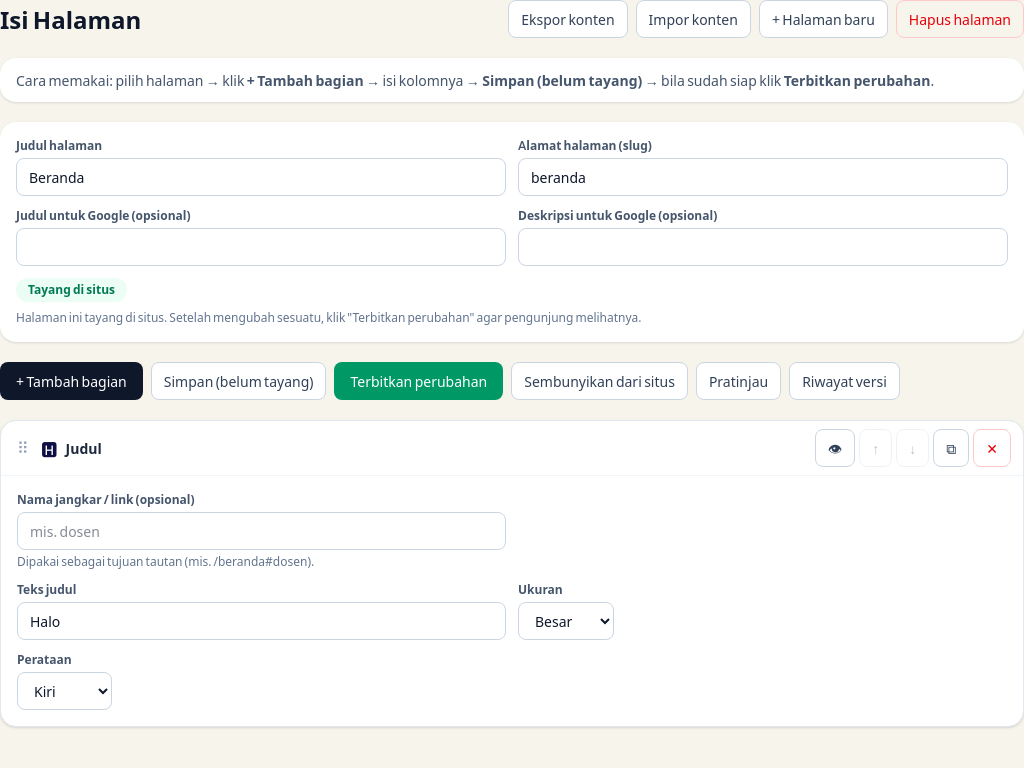
PageBuilder — bundel konten › ADMIN dapat mengekspor konten sebagai berkas JSON
The image size is (1024, 768).
Step 1. Click the button "Ekspor konten" → (568, 19), box [508, 0, 628, 38]
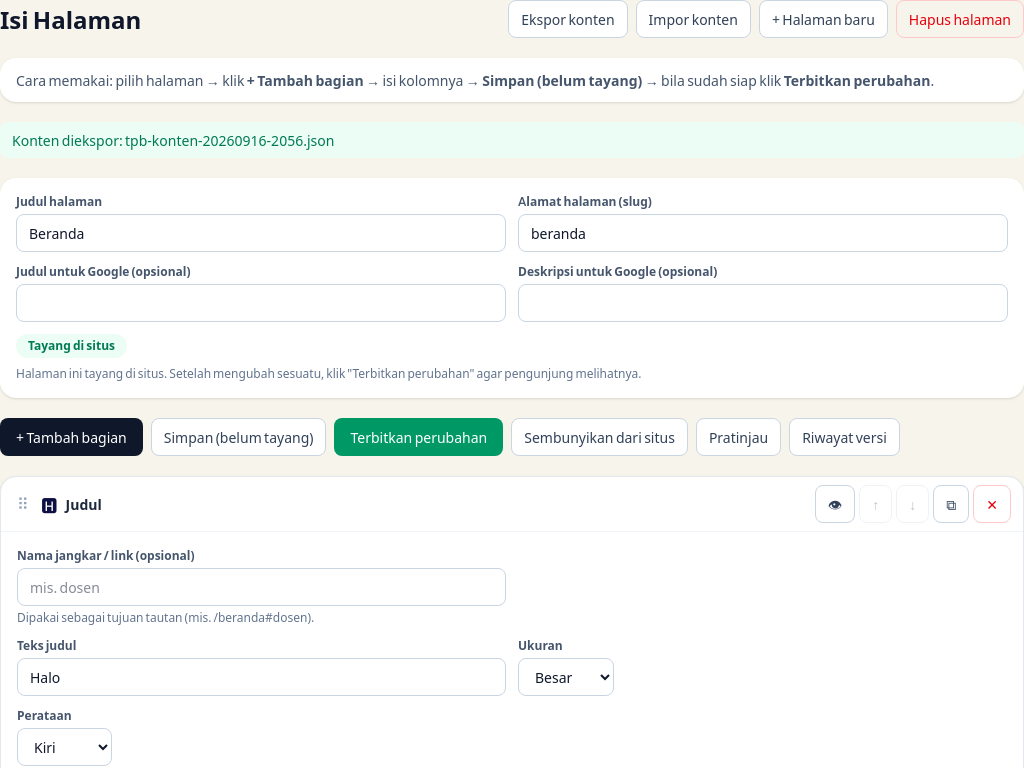
Now the text "Konten diekspor: tpb-konten-20260916-2056.json" is shown, box [0, 122, 1023, 158]
